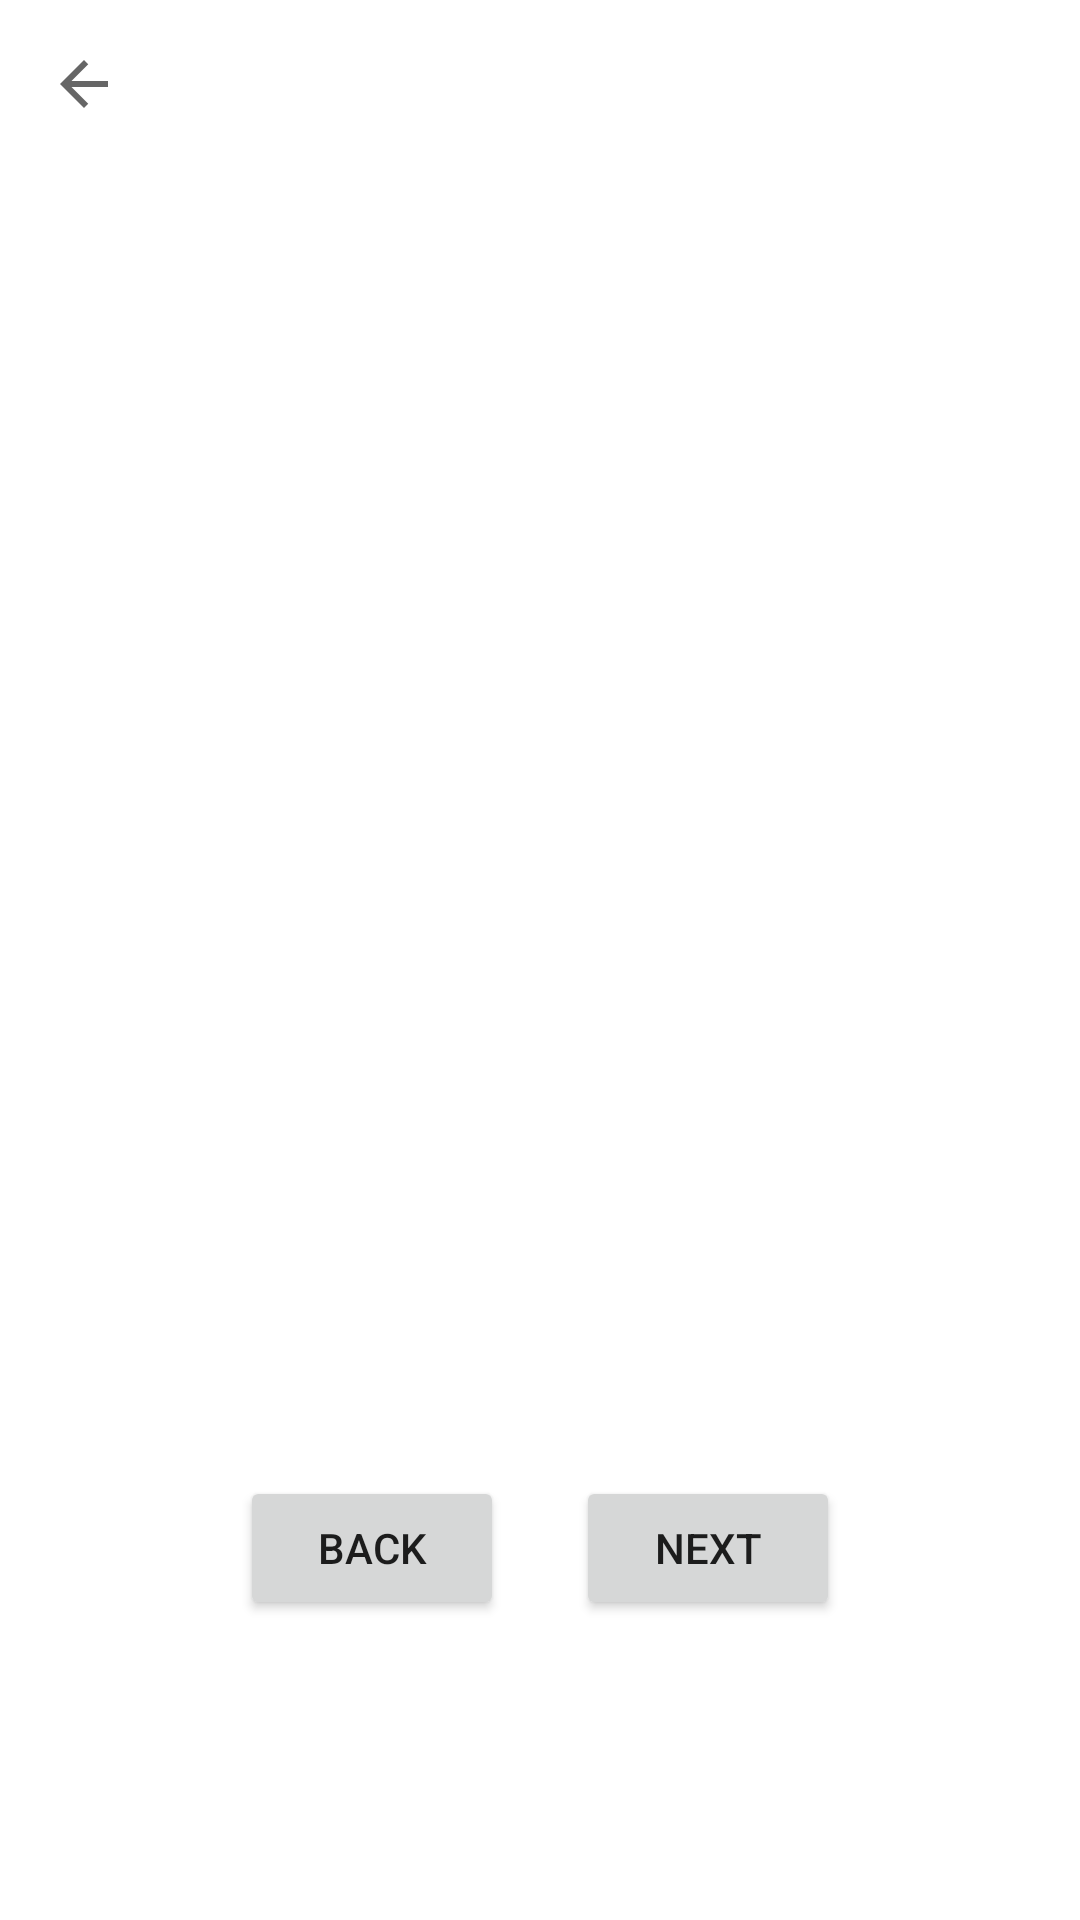

Point at icon controls on the screen. Image size 1080 x 1920, points as (x,y).
go back: (84,84)
